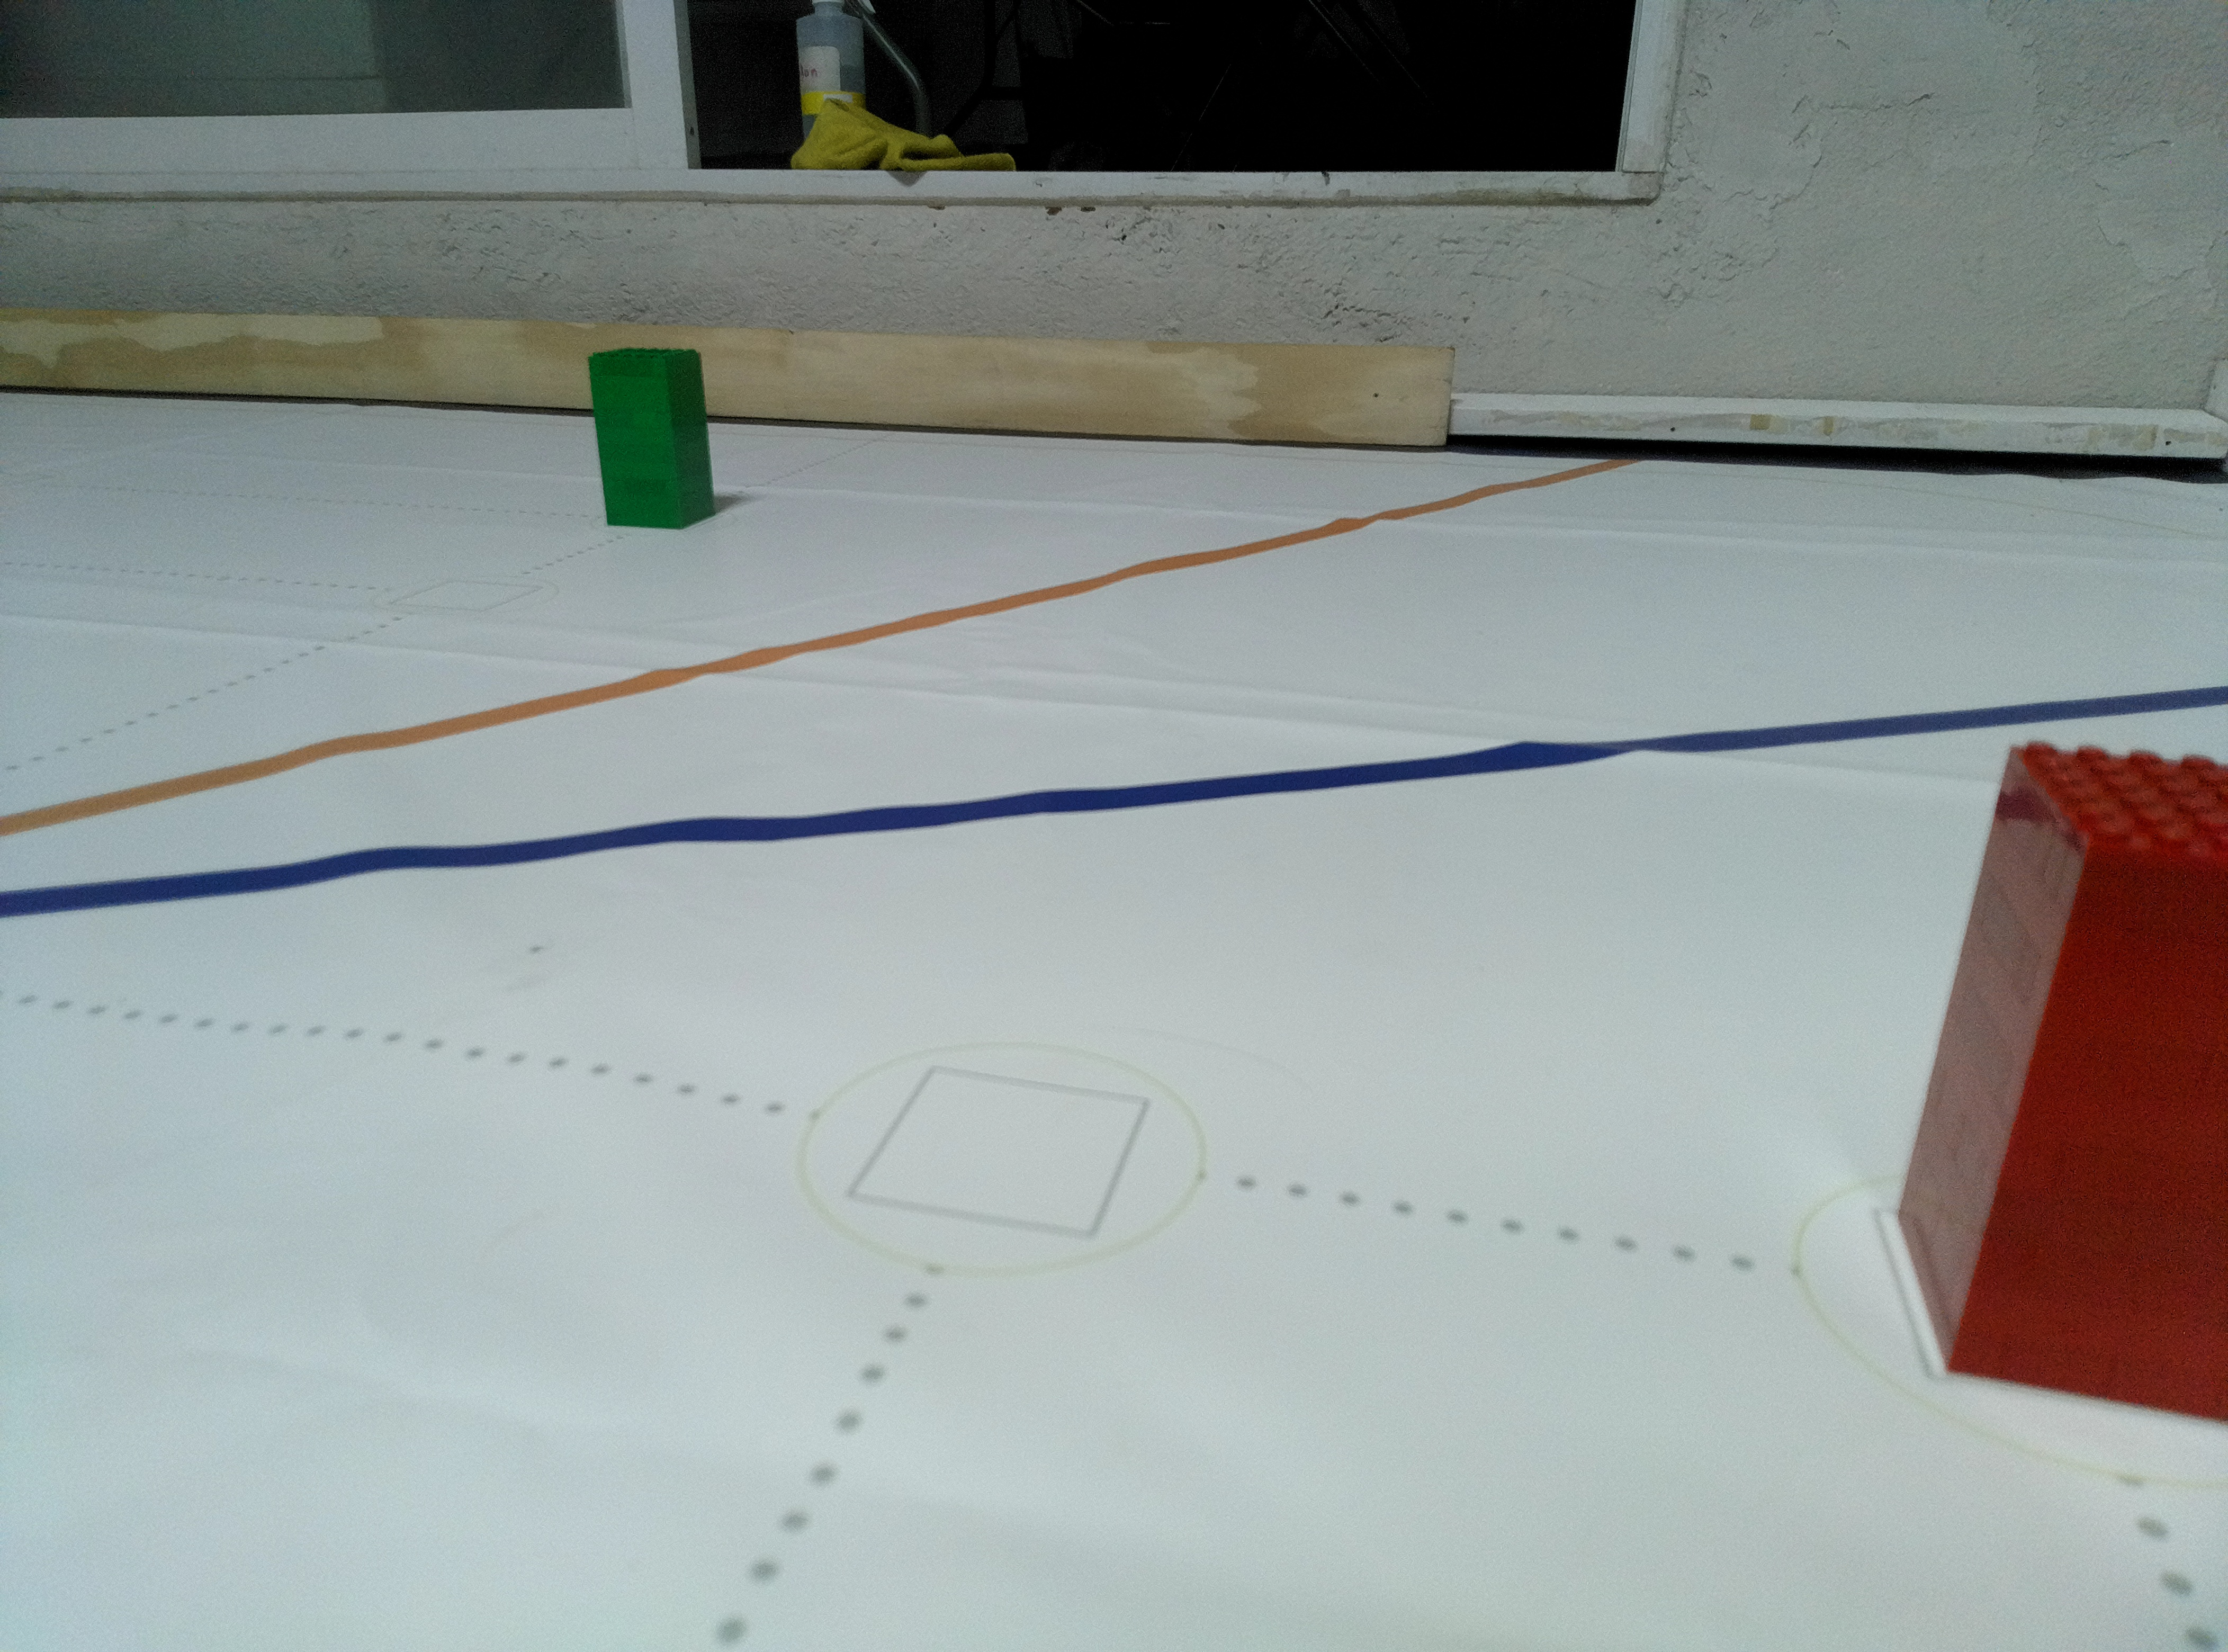greenbox: (586, 345, 718, 531)
redbox: (1891, 737, 2228, 1439)
